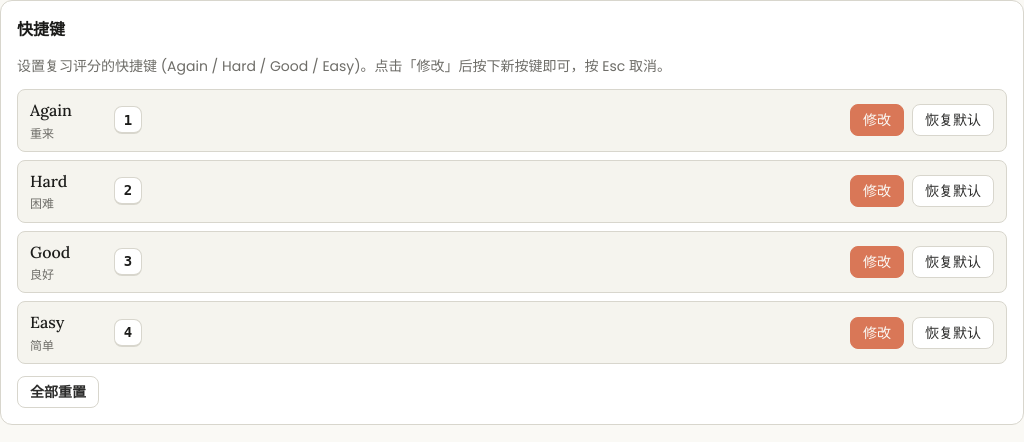
Test: T02 保留键拒绝 + Escape 取消 › 捕获态按保留键 S → 行内冲突原因, 键位不变; 按 Escape → 取消且无错误
This screenshot has width=1024, height=442.
// 保留键 'S' 被拒
Click the button with aria-label "修改 Again 键" at (877, 120), box [850,104,904,136]
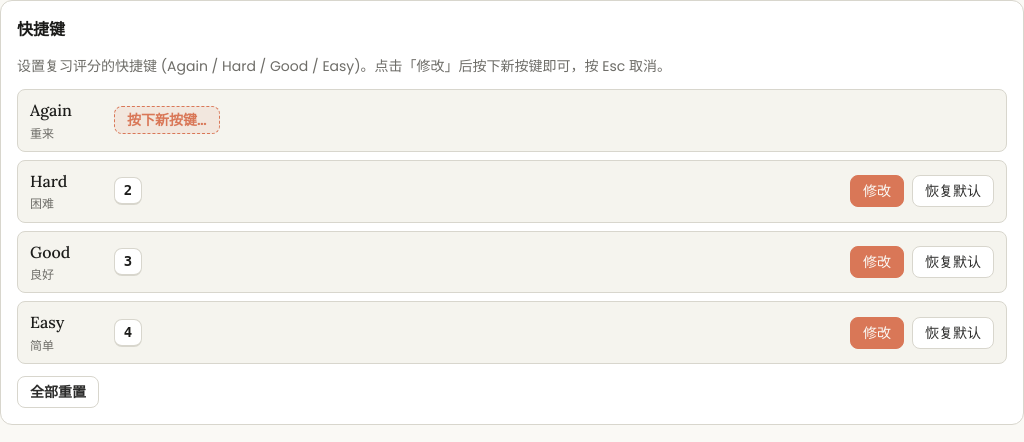
Press S
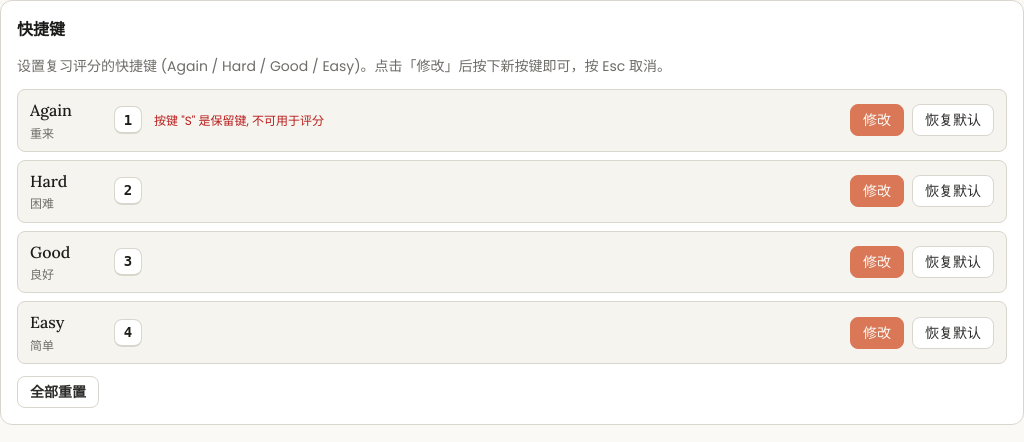
Check: the text "按键 \"S\" 是保留键, 不可用于评分" is shown, box [154,111,324,130]
Check: the text "按下新按键…" is gone
// Escape 取消: 重新进入捕获 (此时旧错误已被清除, 进入捕获提示), 按 Escape → 退出且无错误
Click the button with aria-label "修改 Again 键" at (877, 120), box [850,104,904,136]
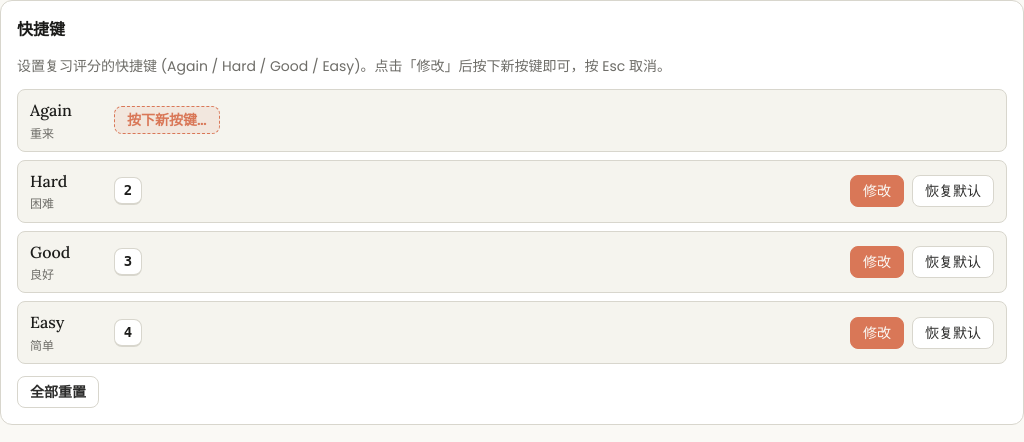
Check: the text "按下新按键…" is shown, box [114,106,220,134]
Press Escape
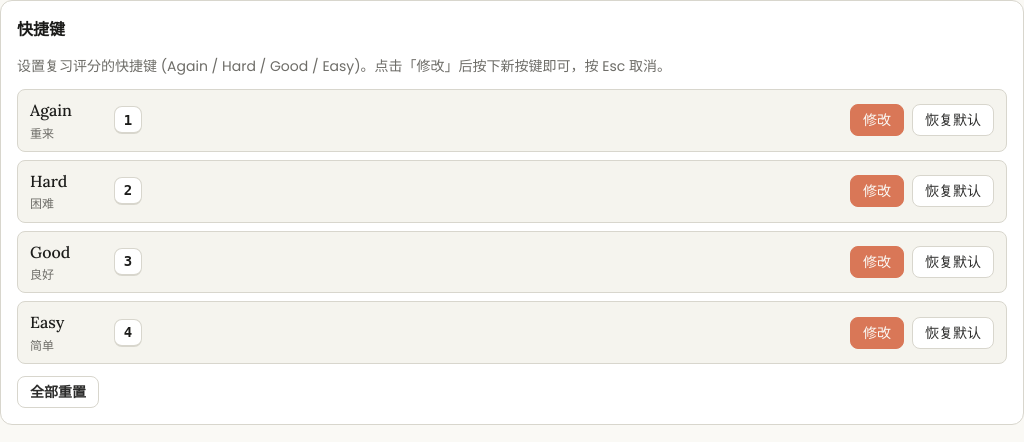
Check: the text "保留键" is not shown
Check: the text "按下新按键…" is gone
